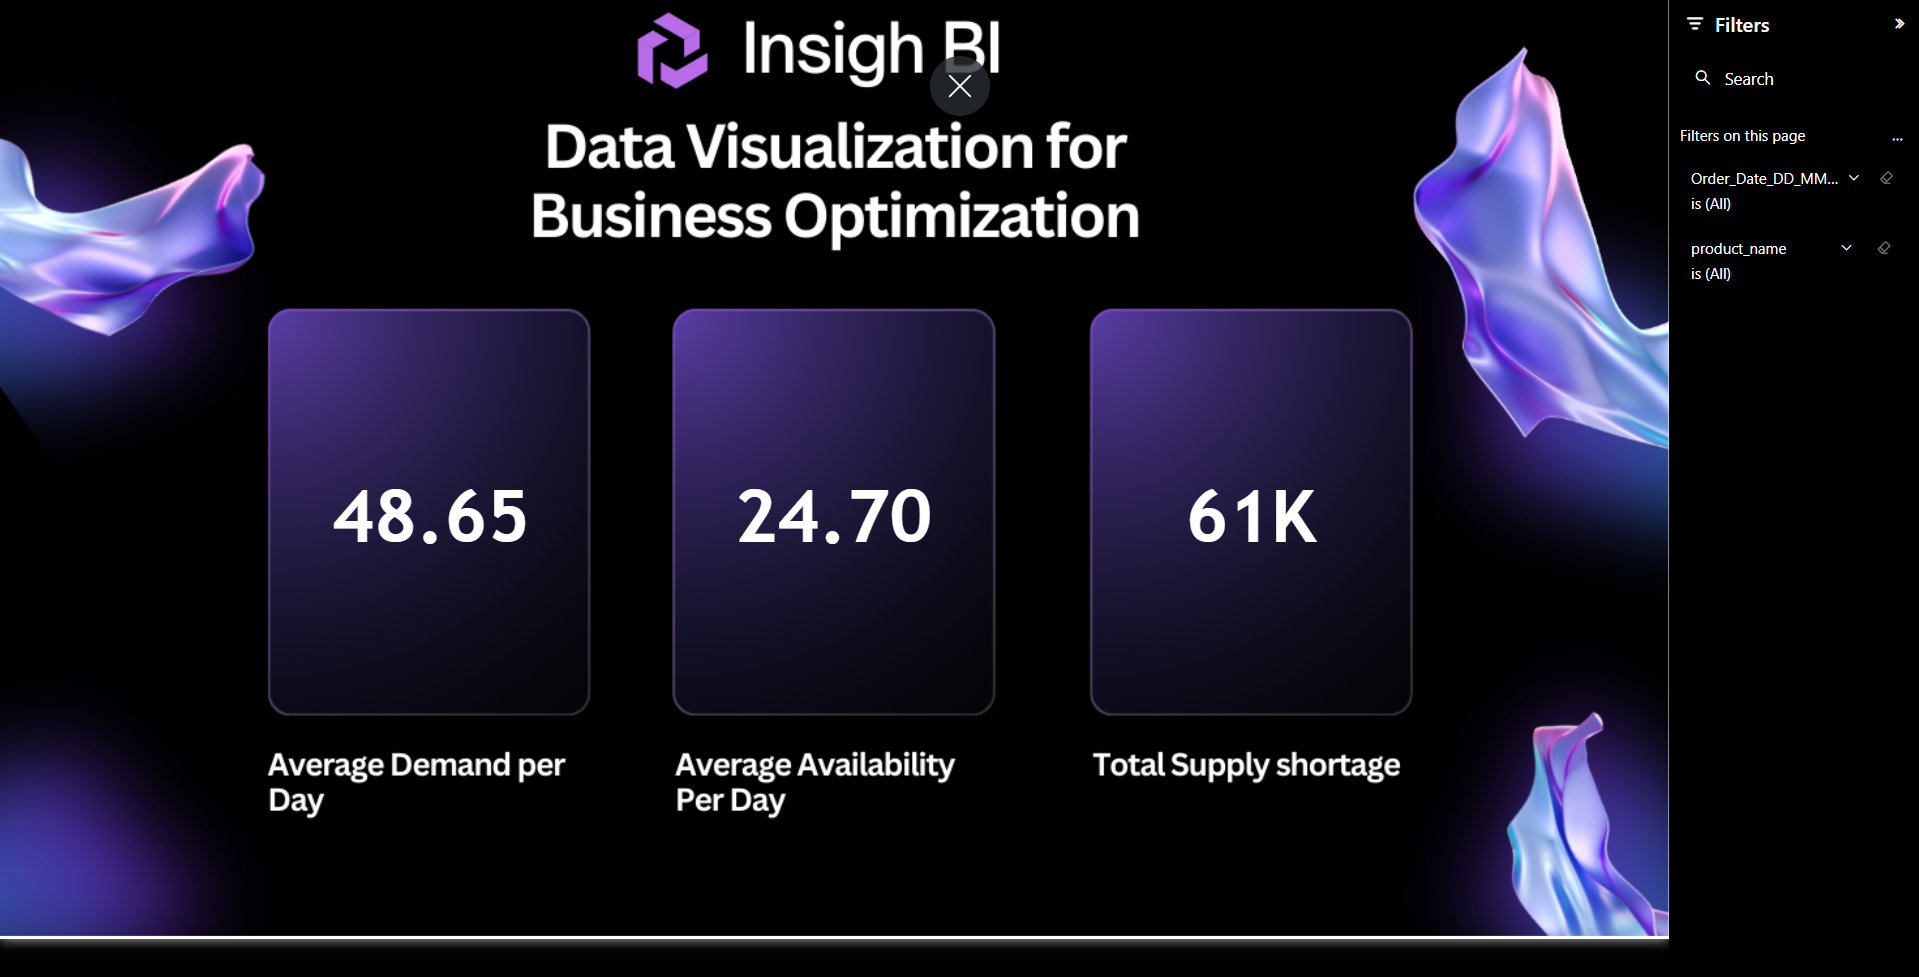

What the dashboard file says about the page in this screenshot:
{"tool":"powerbi","page":{"name":"Page 1","canvas":[1280,720],"ordinal":0},"visuals":[{"type":"card","fields":{"Values":["Measures Table.Average Demand Per Day"]},"box":[207.2,234.6,247,314.2],"z":0},{"type":"card","fields":{"Values":["Measures Table.Average Availability Per Day"]},"box":[516,234.6,247,314.2],"z":1000},{"type":"card","fields":{"Values":["Measures Table.Total Supply Shortage"]},"box":[835.7,234.6,247,314.2],"z":2000}]}

Visuals, with their boxes on the page's 1280x720 design canvas (x1, y1, x2, y2). These are canvas units, not pixel positions in the 1919x977 screenshot, which may show the page scaled, cropped or inside an application window:
card - Measures Table.Average Demand Per Day: (207,235,454,549)
card - Measures Table.Average Availability Per Day: (516,235,763,549)
card - Measures Table.Total Supply Shortage: (836,235,1083,549)
